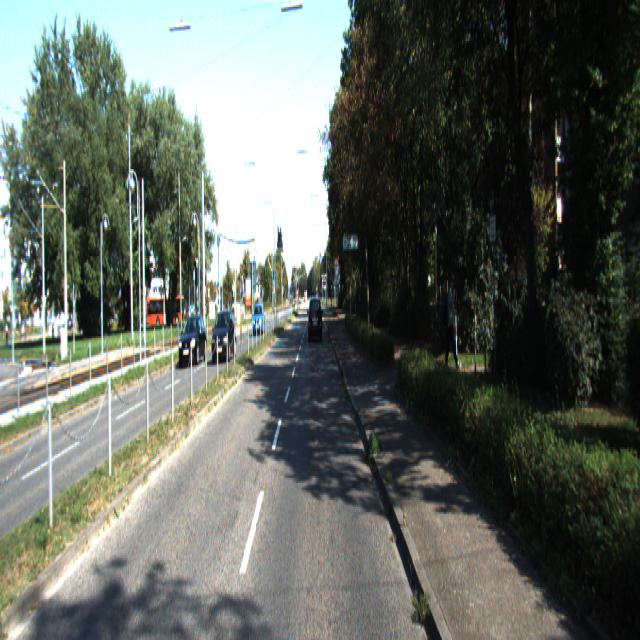Car: (179, 315, 207, 366), (212, 310, 236, 362), (308, 298, 323, 346), (252, 305, 265, 335)
